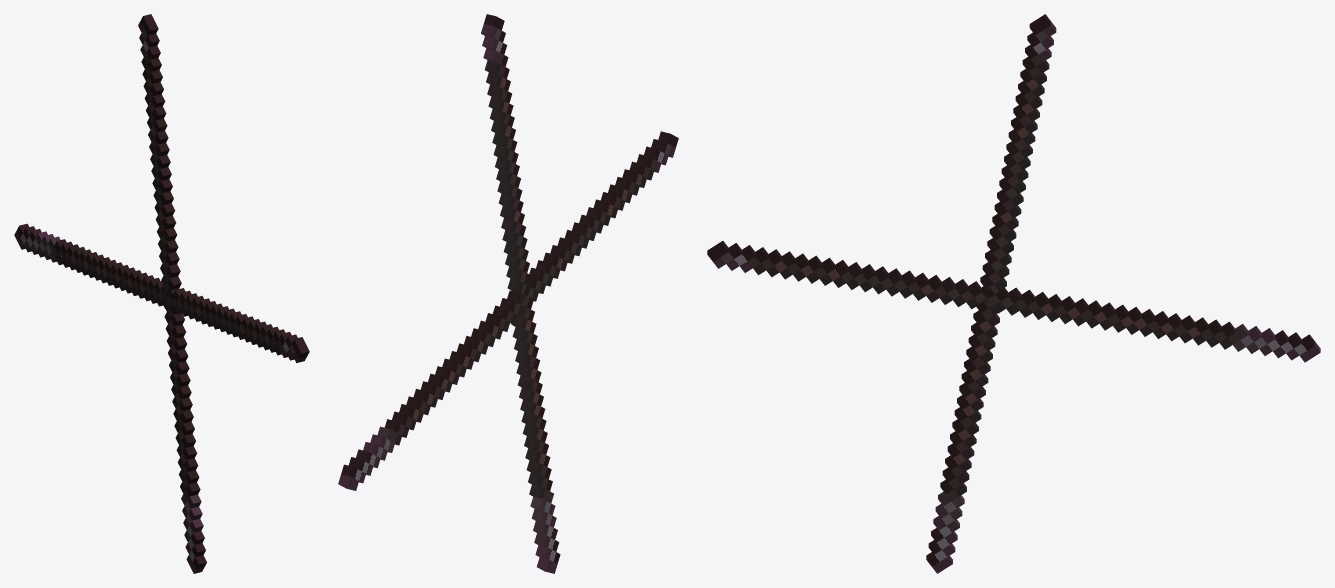
The model's file is netherite_pike.glb.
3 renders of one model, left to right at view 1: azimuth 30°, elevation 25°; view 2: azimuth 150°, elevation 25°; view 3: azimuth 270°, elevation 25°, orthographic. The views are drawn at different scales.
Parts seen in each view (by area): view 1: off__Tool_L, main__Tool_R; view 2: off__Tool_L, main__Tool_R; view 3: main__Tool_R, off__Tool_L.
Part boxes in pixels (<box>): off__Tool_L: <box>138,14,206,573</box>; main__Tool_R: <box>14,223,309,362</box>; off__Tool_L: <box>481,14,560,573</box>; main__Tool_R: <box>338,131,678,490</box>; main__Tool_R: <box>707,241,1320,362</box>; off__Tool_L: <box>926,14,1056,573</box>.
Bounding box in the file's own units: 0.0625 × 3.75 × 3.75.
1 material, 1 textured.
